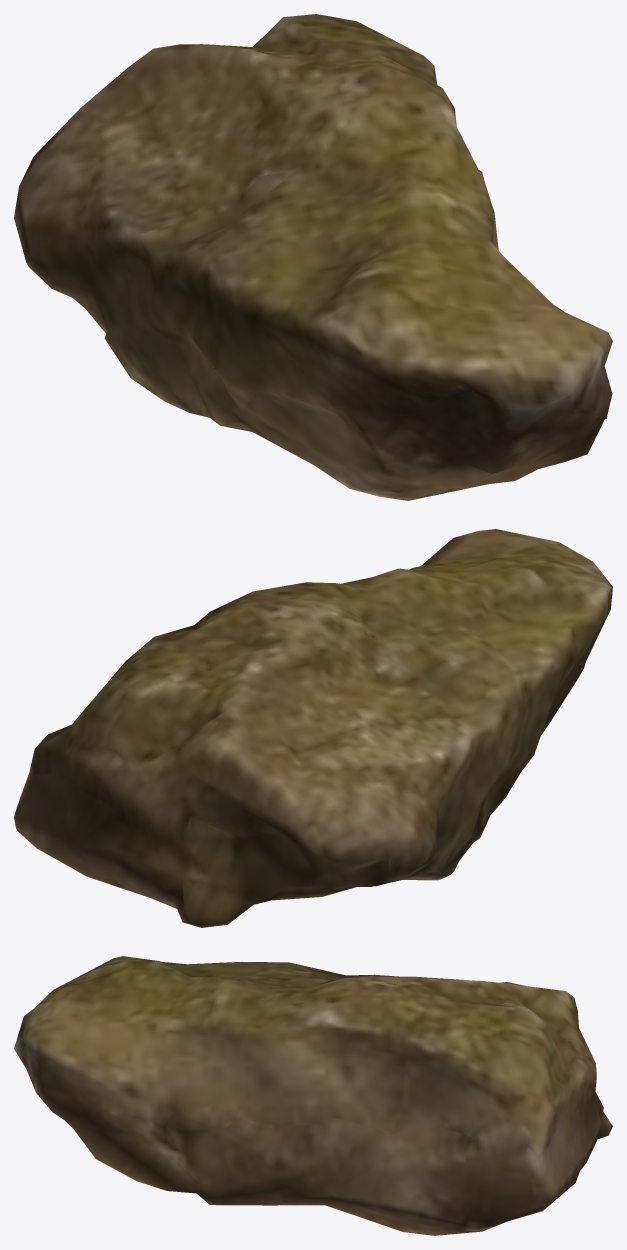
Rendered from rock_moss_set_01_rock05.glb.
3 views of the same model, one above another, from view 1: azimuth 30°, elevation 25°; view 2: azimuth 150°, elevation 25°; view 3: azimuth 270°, elevation 25° (orthographic). The views are drawn at different scales.
Visible parts, largest first — view 1: rock_moss_set_01_rock05; view 2: rock_moss_set_01_rock05; view 3: rock_moss_set_01_rock05.
Part boxes in pixels (left/top/right/bottom): rock_moss_set_01_rock05: left=14, top=14, right=612, bottom=500; rock_moss_set_01_rock05: left=14, top=529, right=612, bottom=927; rock_moss_set_01_rock05: left=14, top=956, right=612, bottom=1235.
Size of the model in its own units: 1.81 by 1.2 by 3.
Materials: 1 (1 with a texture image).
